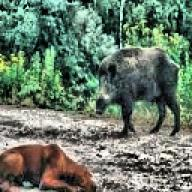boar: (93, 45, 180, 137), (0, 142, 96, 192)
